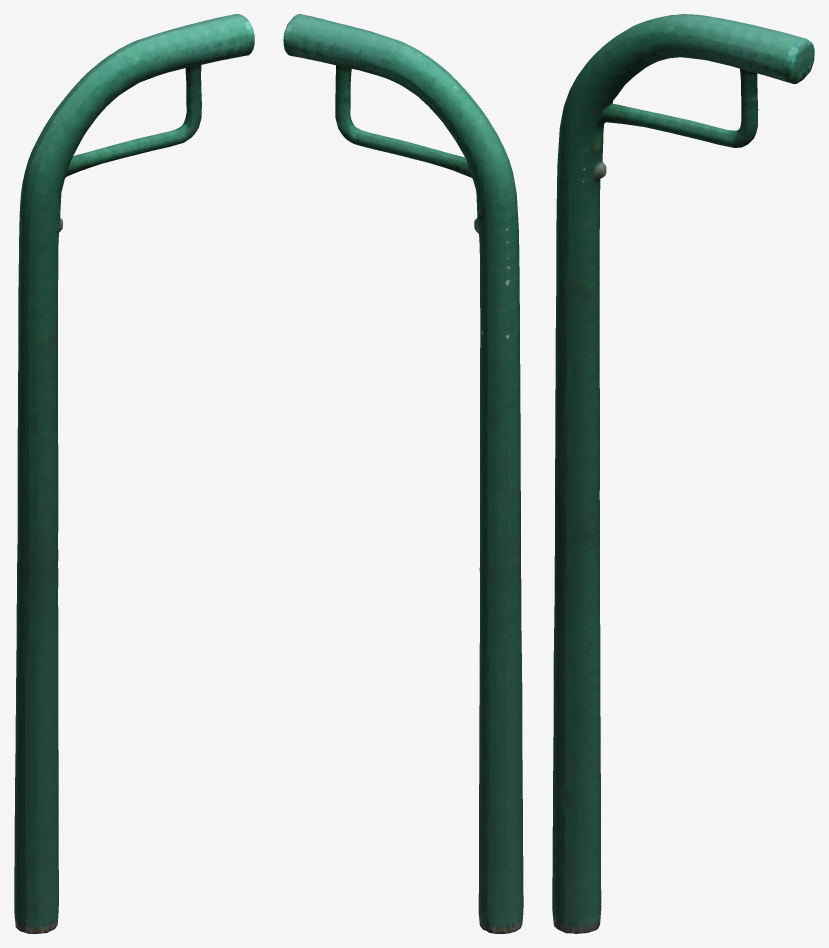
3 renders of one model, left to right at view 1: azimuth 30°, elevation 25°; view 2: azimuth 150°, elevation 25°; view 3: azimuth 330°, elevation 25°, orthographic. The views are drawn at different scales.
Visible parts, largest first — view 1: fitness-macombs; view 2: fitness-macombs; view 3: fitness-macombs.
Part boxes in pixels (left/top/right/bottom): fitness-macombs: left=14, top=14, right=254, bottom=933; fitness-macombs: left=283, top=14, right=523, bottom=933; fitness-macombs: left=552, top=14, right=814, bottom=933.
Bounding box in the file's own units: 0.6388 × 2.3 × 0.1091.
1 material, 1 textured.
